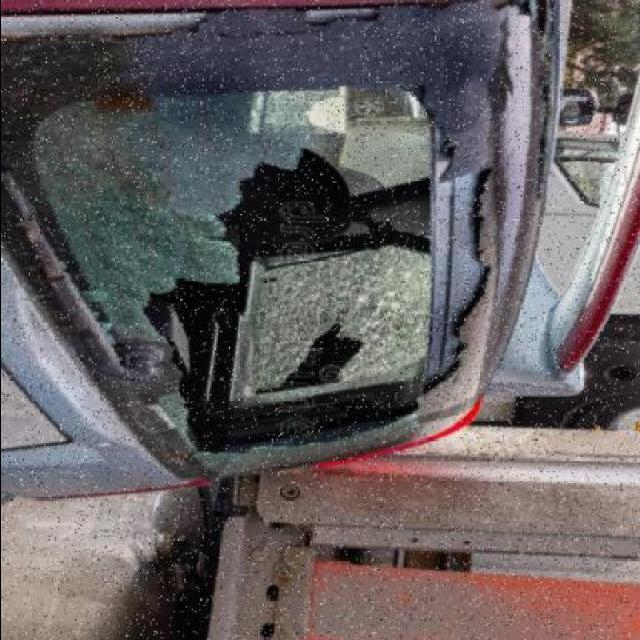Rear-windscreen-Damage: (34, 2, 530, 475)
